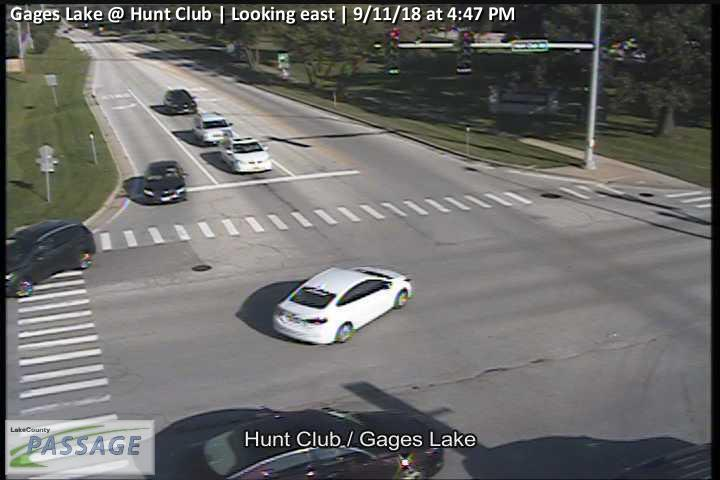SUV: (4, 220, 96, 296), (192, 111, 233, 143), (163, 89, 197, 113)
Sedan: (132, 408, 443, 480), (271, 264, 413, 345), (222, 136, 272, 173), (144, 161, 187, 204)
